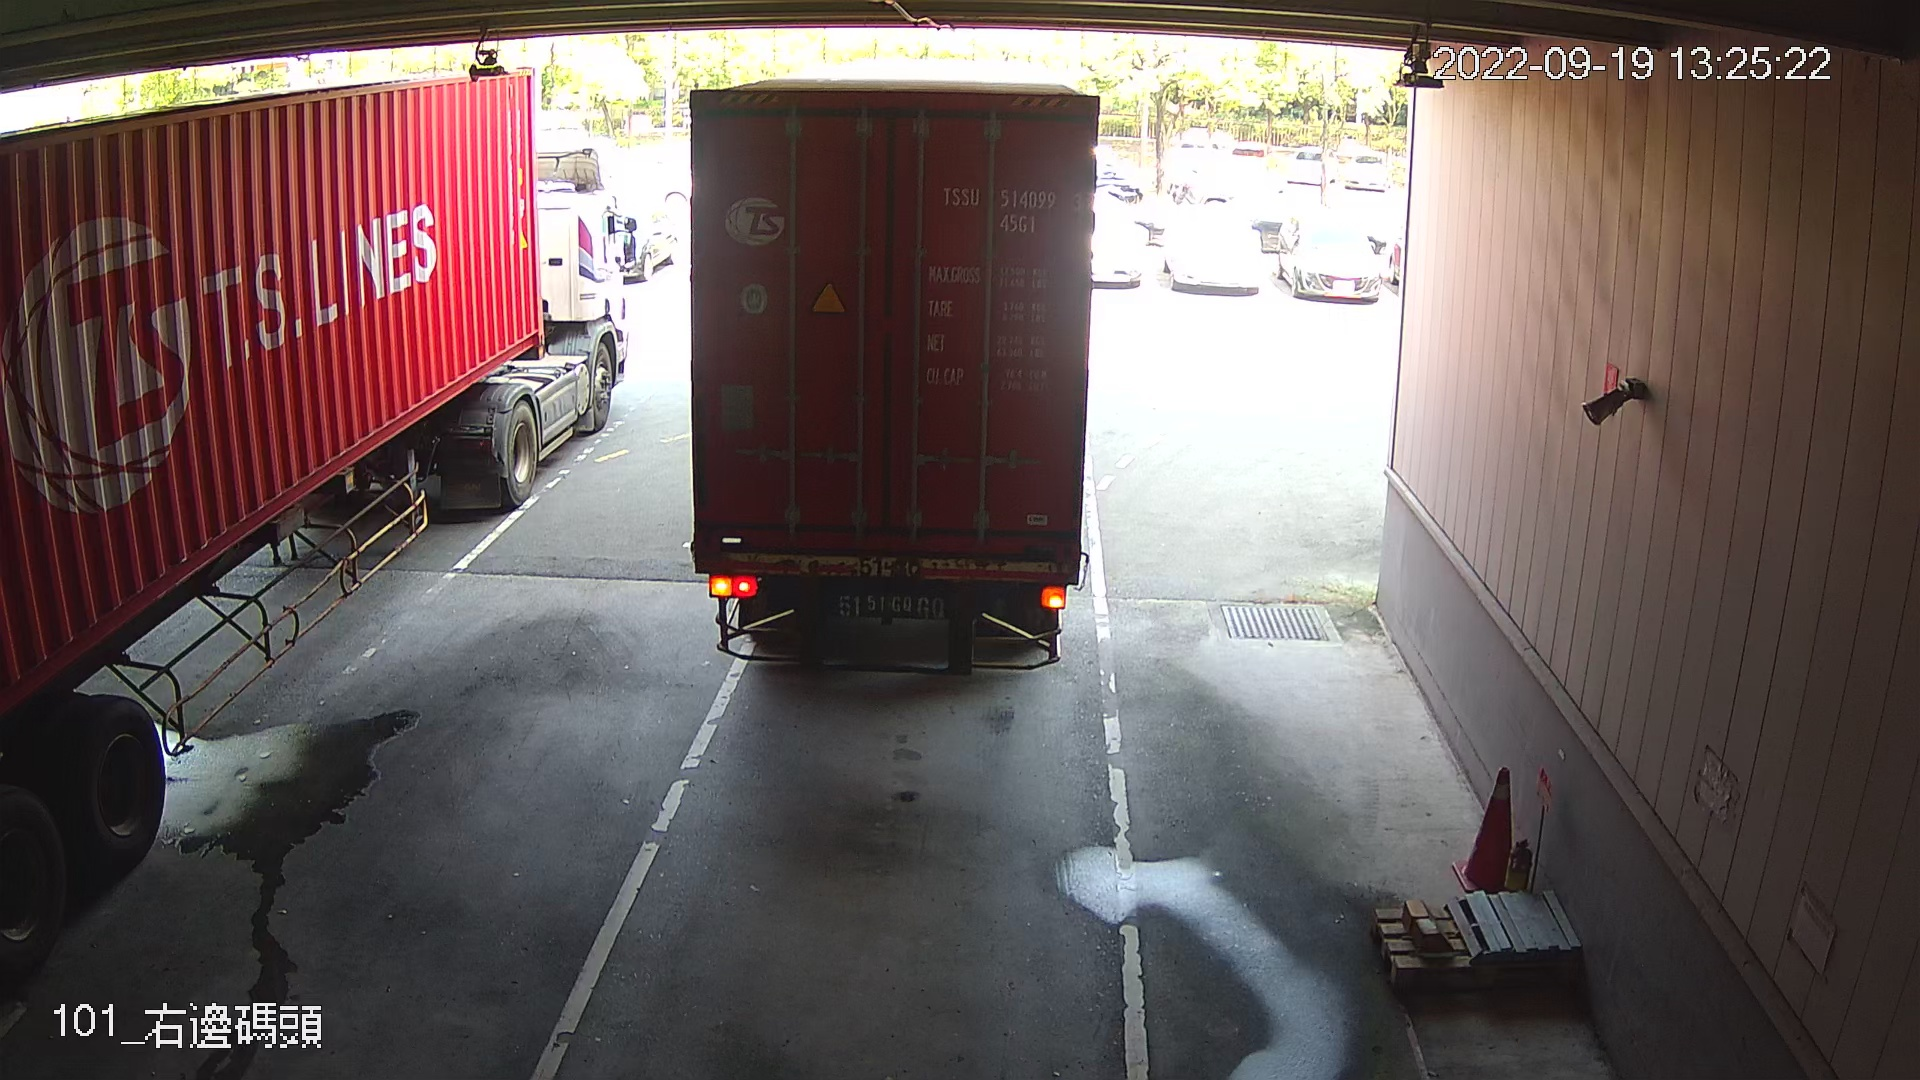container: (935, 171, 1089, 237)
